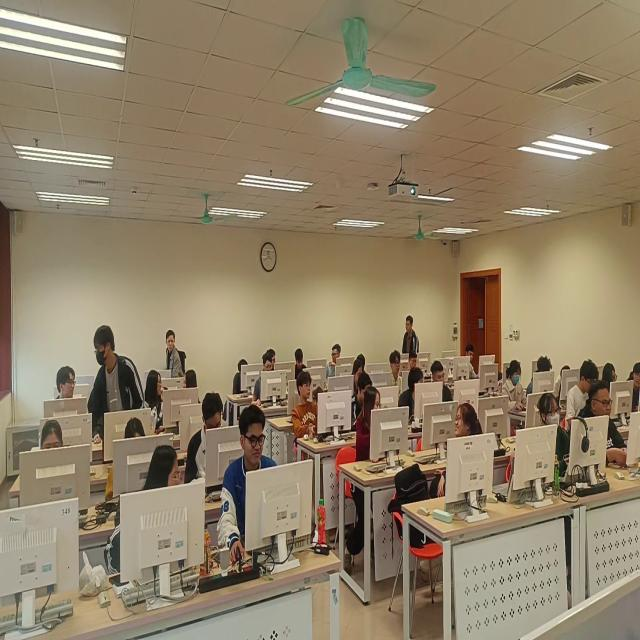raise_head: (576, 383, 629, 471), (536, 393, 571, 467), (390, 351, 404, 396), (632, 361, 640, 396)
stand: (88, 325, 145, 443), (166, 329, 187, 380), (403, 315, 420, 354)
using_computer: (218, 405, 279, 557), (186, 391, 225, 489), (106, 418, 147, 503), (565, 359, 600, 432), (502, 359, 529, 412), (526, 355, 553, 402), (252, 354, 274, 405), (431, 360, 455, 406), (41, 420, 64, 451), (553, 365, 572, 402), (233, 359, 250, 396), (465, 344, 480, 380), (600, 362, 619, 388), (296, 348, 308, 381), (352, 360, 365, 386), (408, 352, 418, 371), (358, 352, 366, 372)
